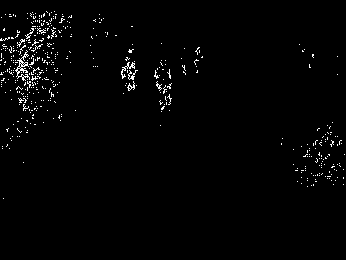person: (154, 58, 174, 114)
